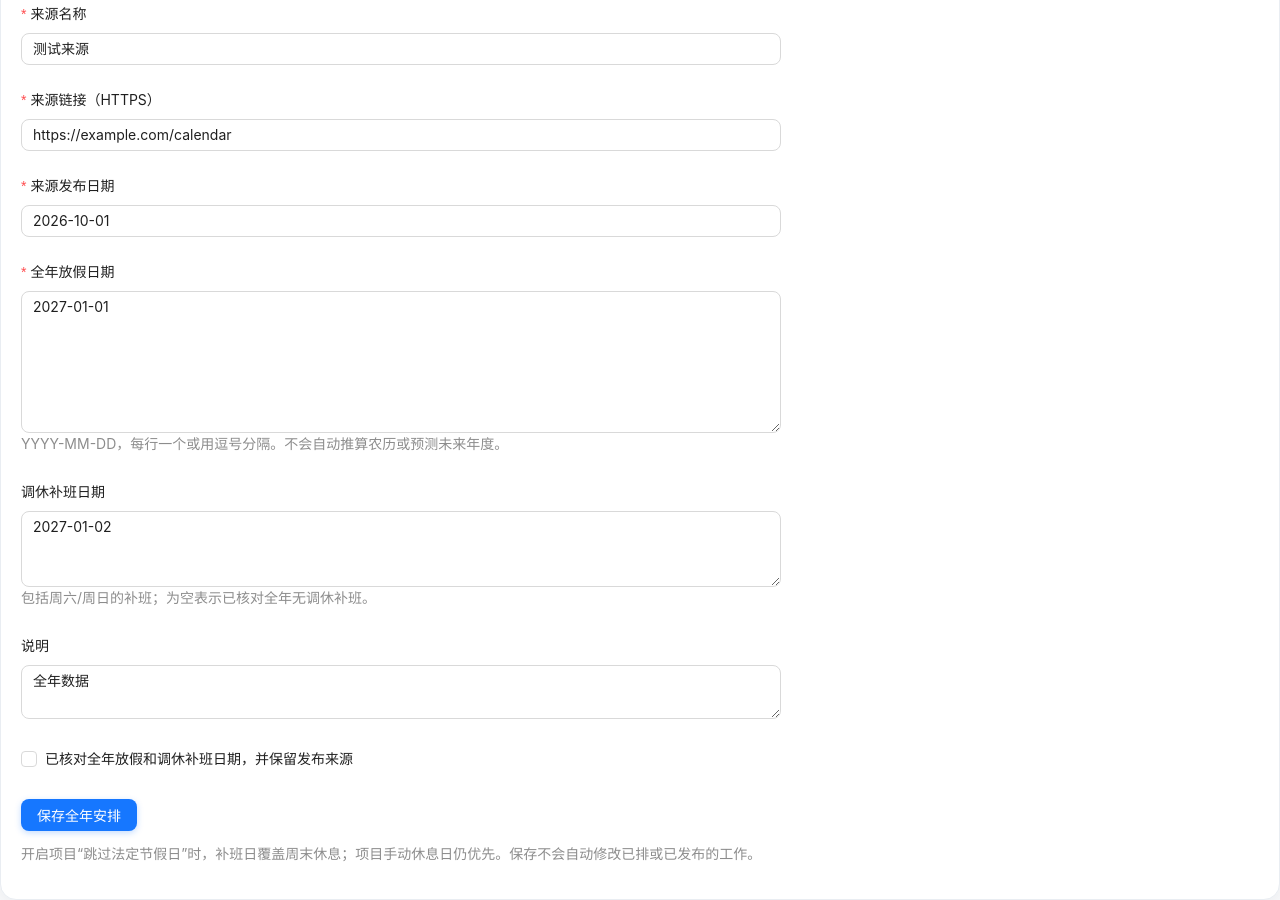
preserves annual edits after a version conflict for explicit reconciliation
The image size is (1280, 900).
(page scrolled)
Replace the text in the text box labelled "说明" with "本次输入" at (401, 692), box [21, 665, 781, 719]
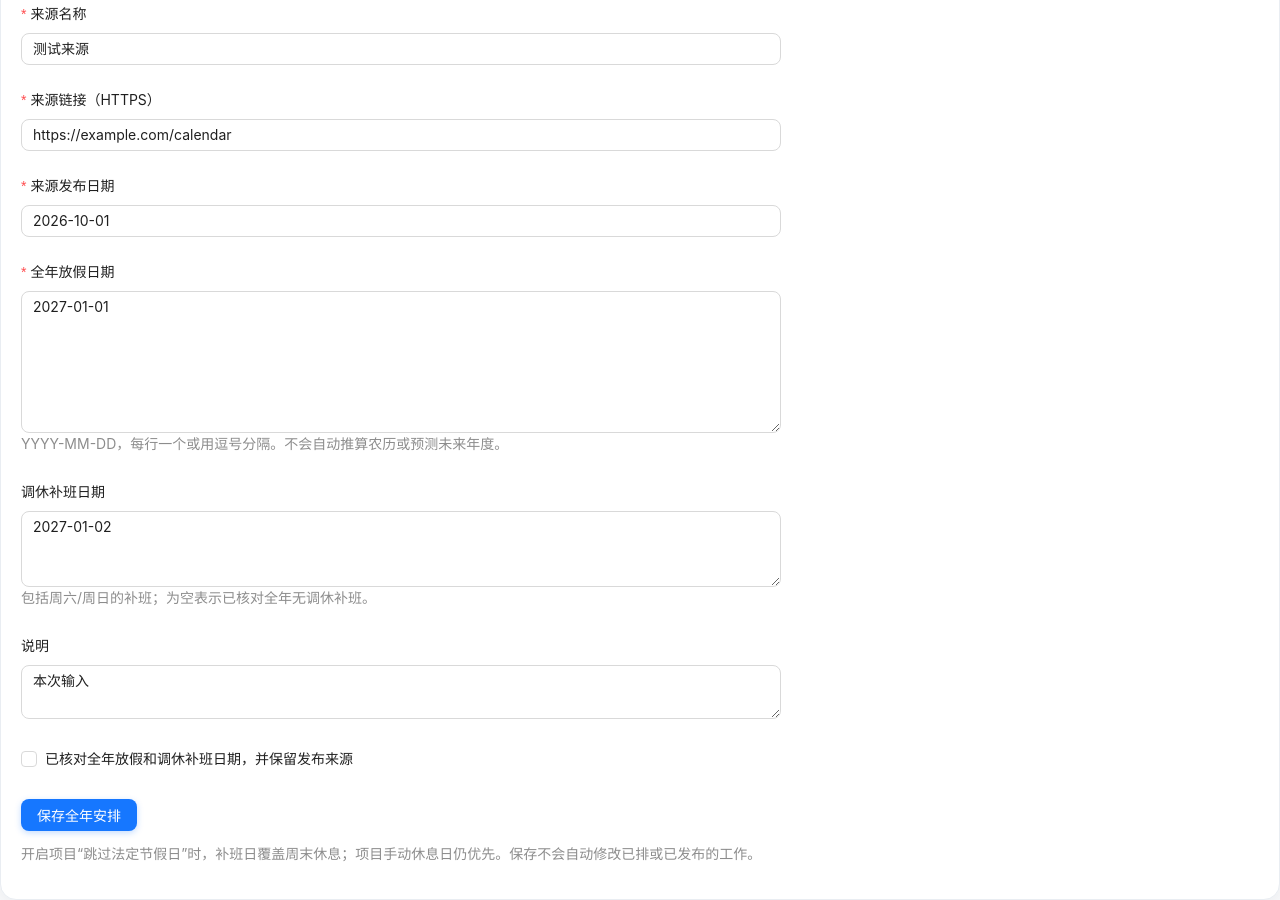
Click the checkbox.
click(191, 759)  # box [21, 748, 361, 770]
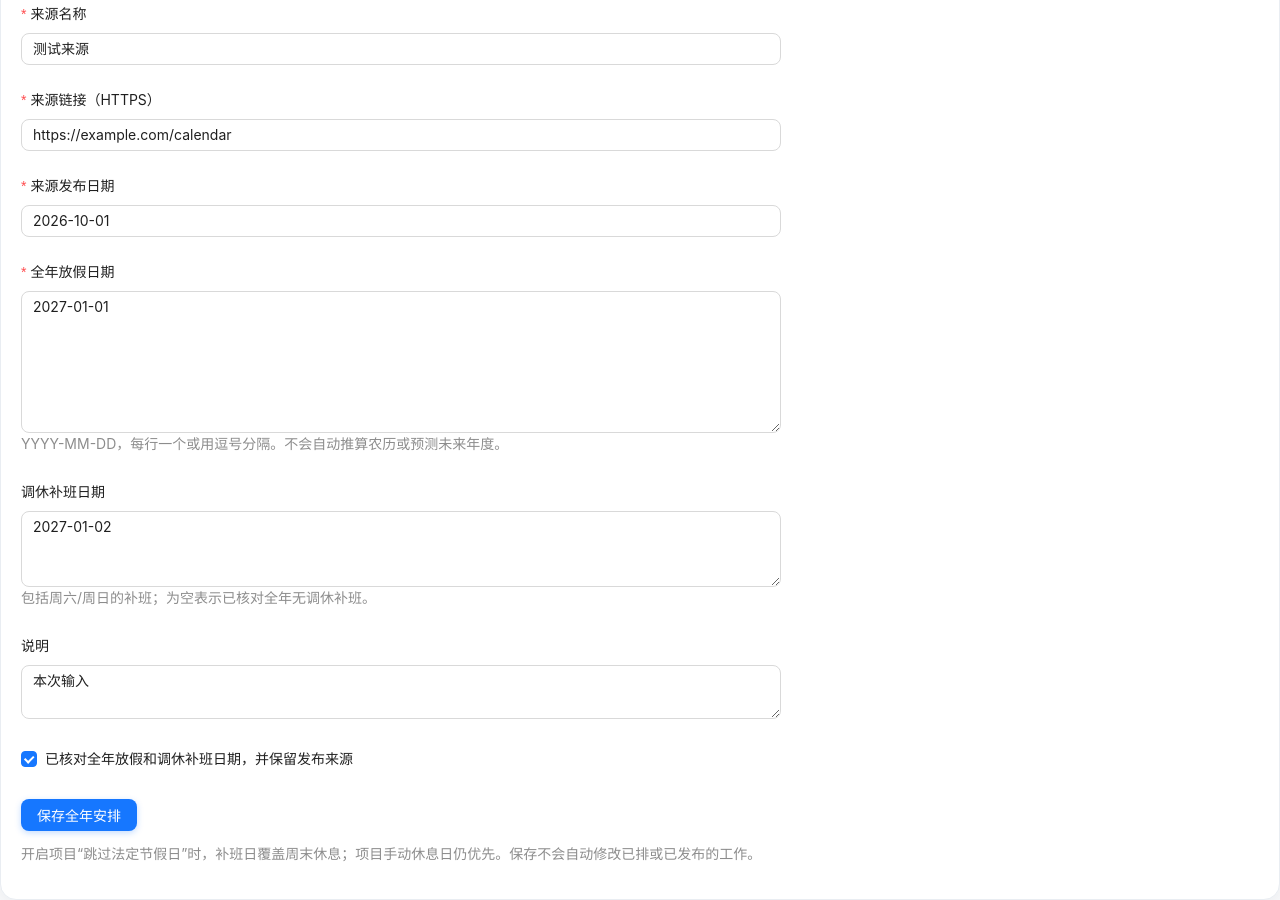
Click the button "保存全年安排".
click(79, 815)  # box [21, 799, 137, 831]
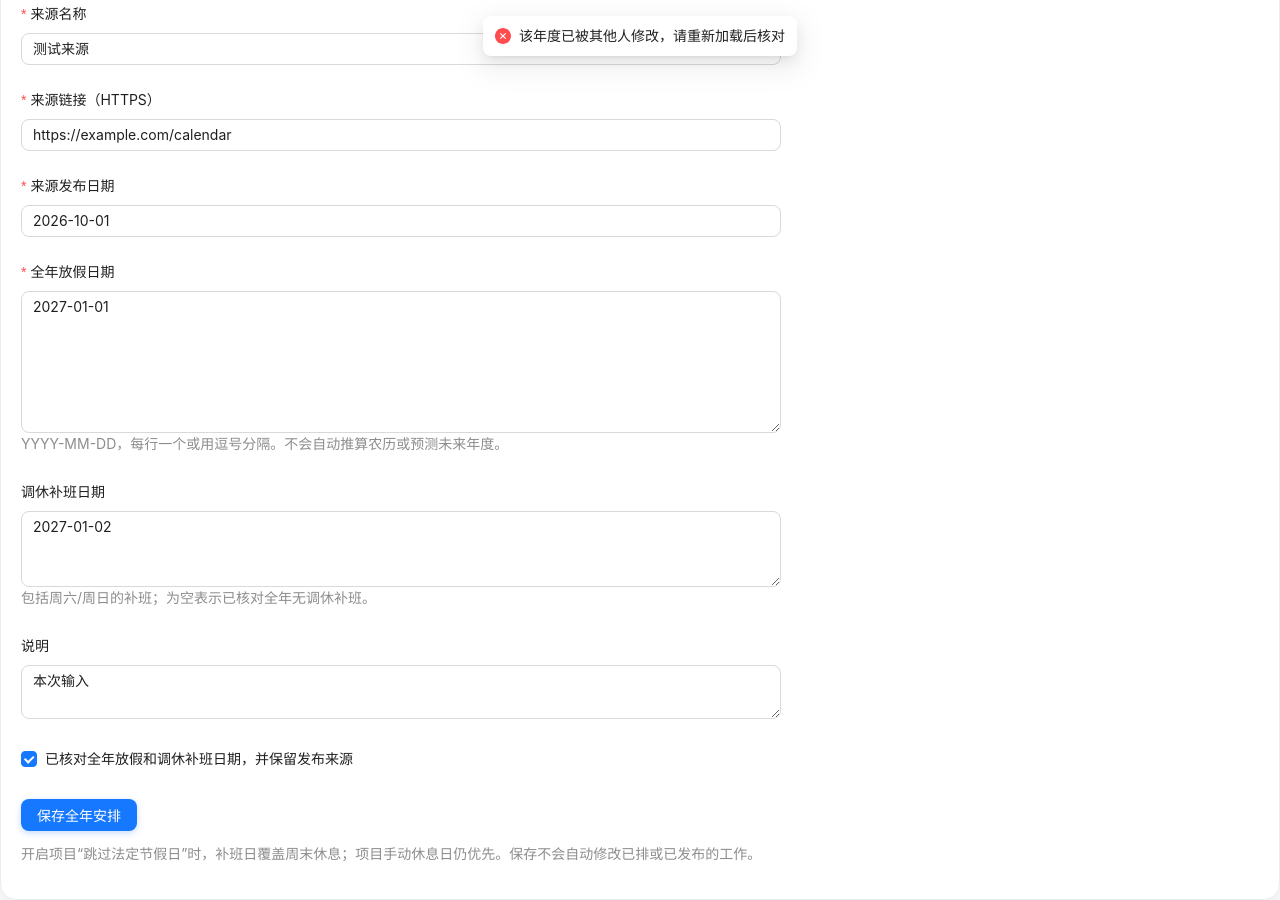
Now the text "该年度已被其他人修改，请重新加载后核对" is shown, box [519, 25, 785, 47]
